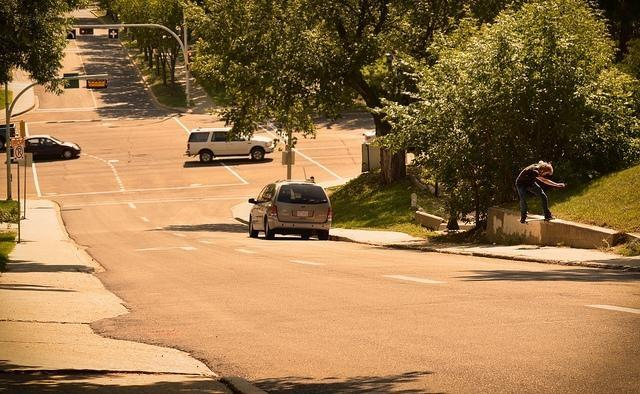car: (248, 179, 334, 241), (182, 126, 274, 164), (23, 134, 81, 160)
